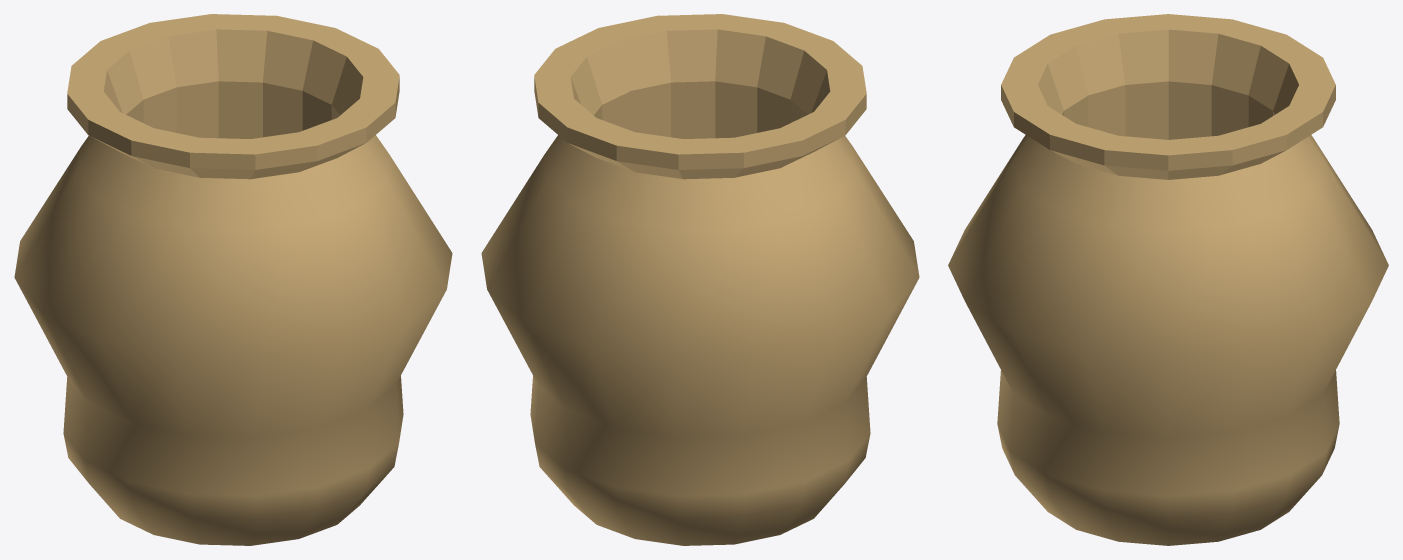
The model's file is SM_pottery_02.fbx.
3 views of the same model, side by side, from view 1: azimuth 30°, elevation 25°; view 2: azimuth 150°, elevation 25°; view 3: azimuth 270°, elevation 25° (orthographic).
Parts seen in each view (by area): view 1: pottery_02; view 2: pottery_02; view 3: pottery_02.
Part boxes in pixels (x1,y1,x2,y2): pottery_02: (14,14,452,545); pottery_02: (481,14,919,545); pottery_02: (948,14,1388,545).
Size of the model in its own units: 73.86 by 75.04 by 73.86.
